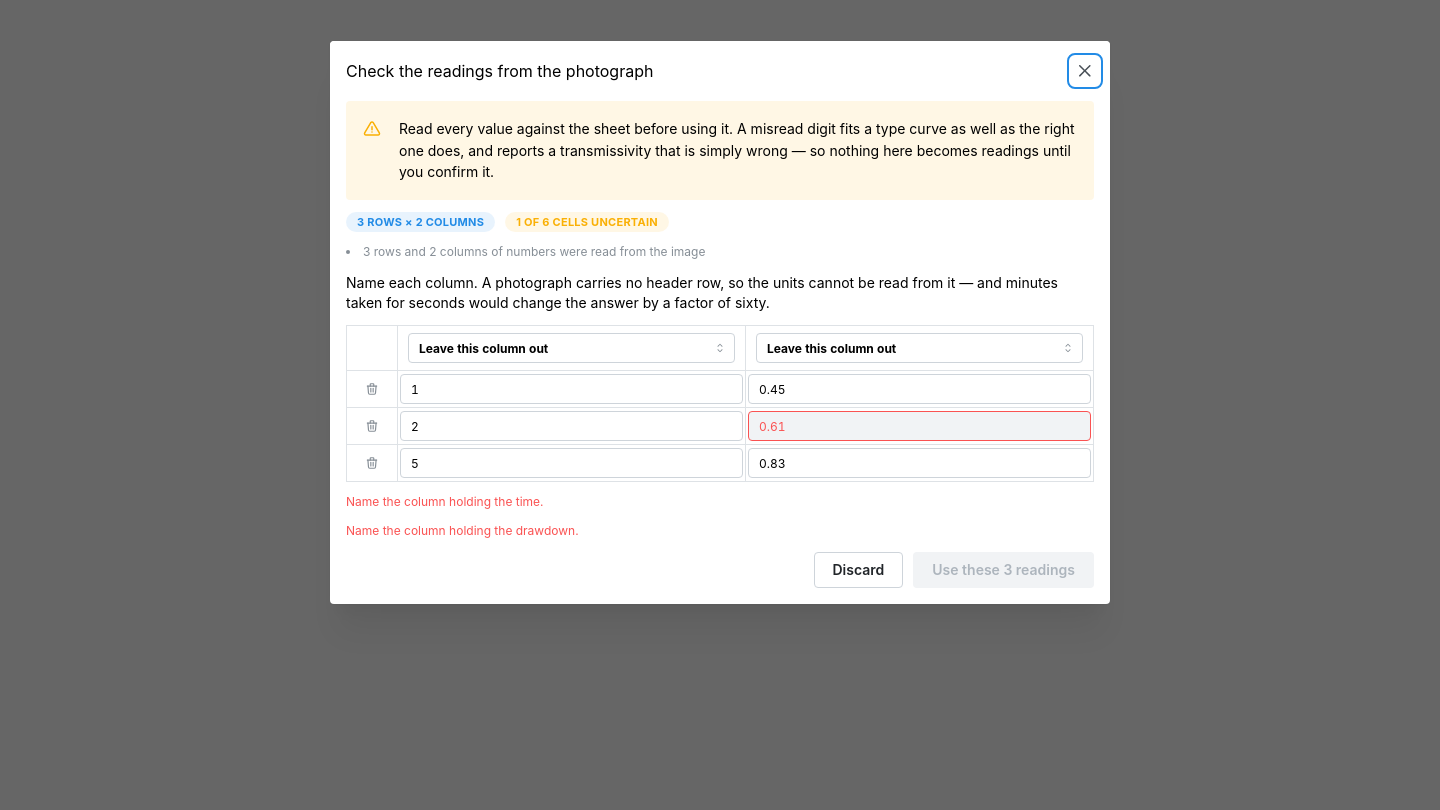
OCRGrid › refuses a row with a hole in a named column
Click the field named "Column 1" at (572, 348), box [408, 333, 735, 363]
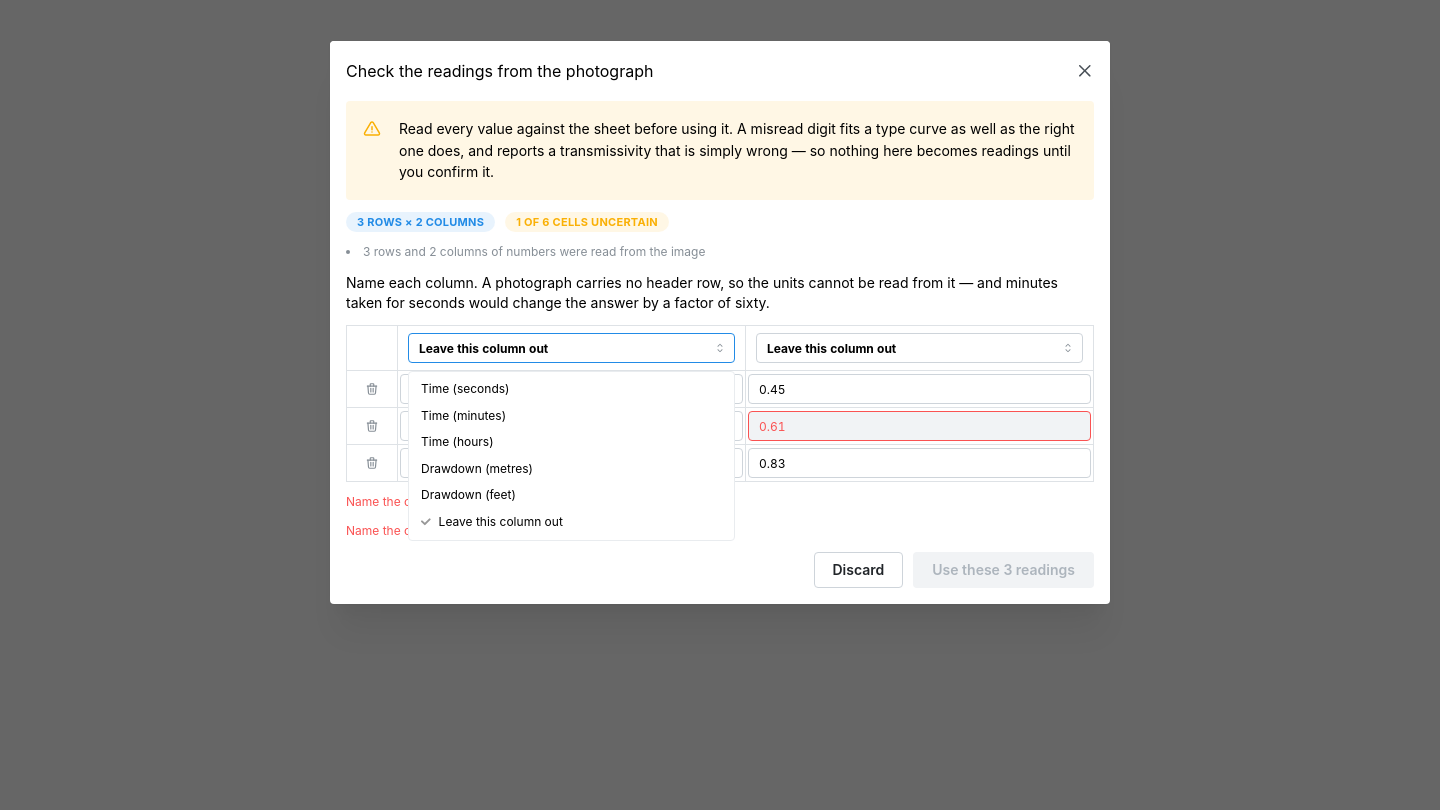
Click the option "Time (minutes)" at (464, 415), box [421, 408, 506, 422]
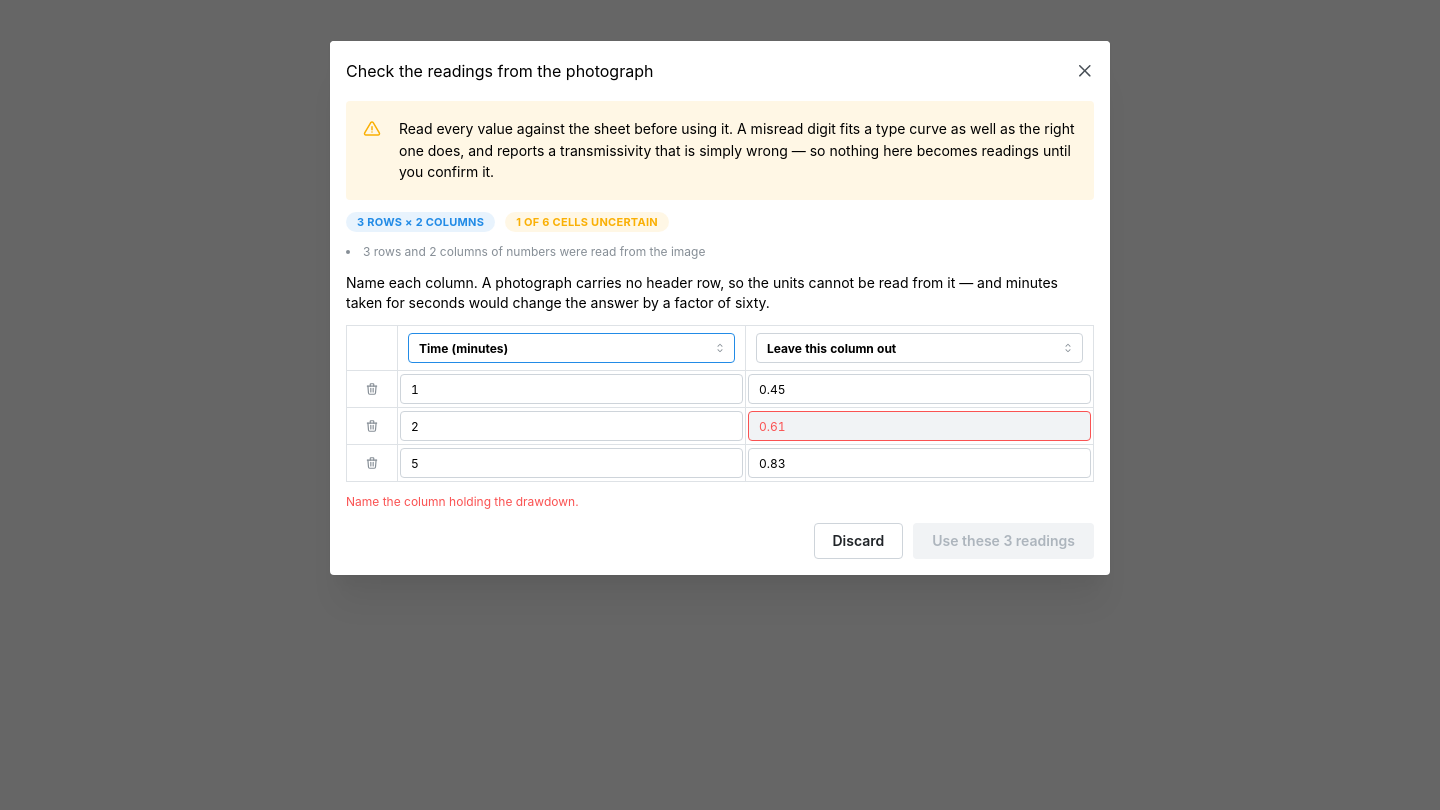
Click the field named "Column 2" at (920, 348), box [756, 333, 1083, 363]
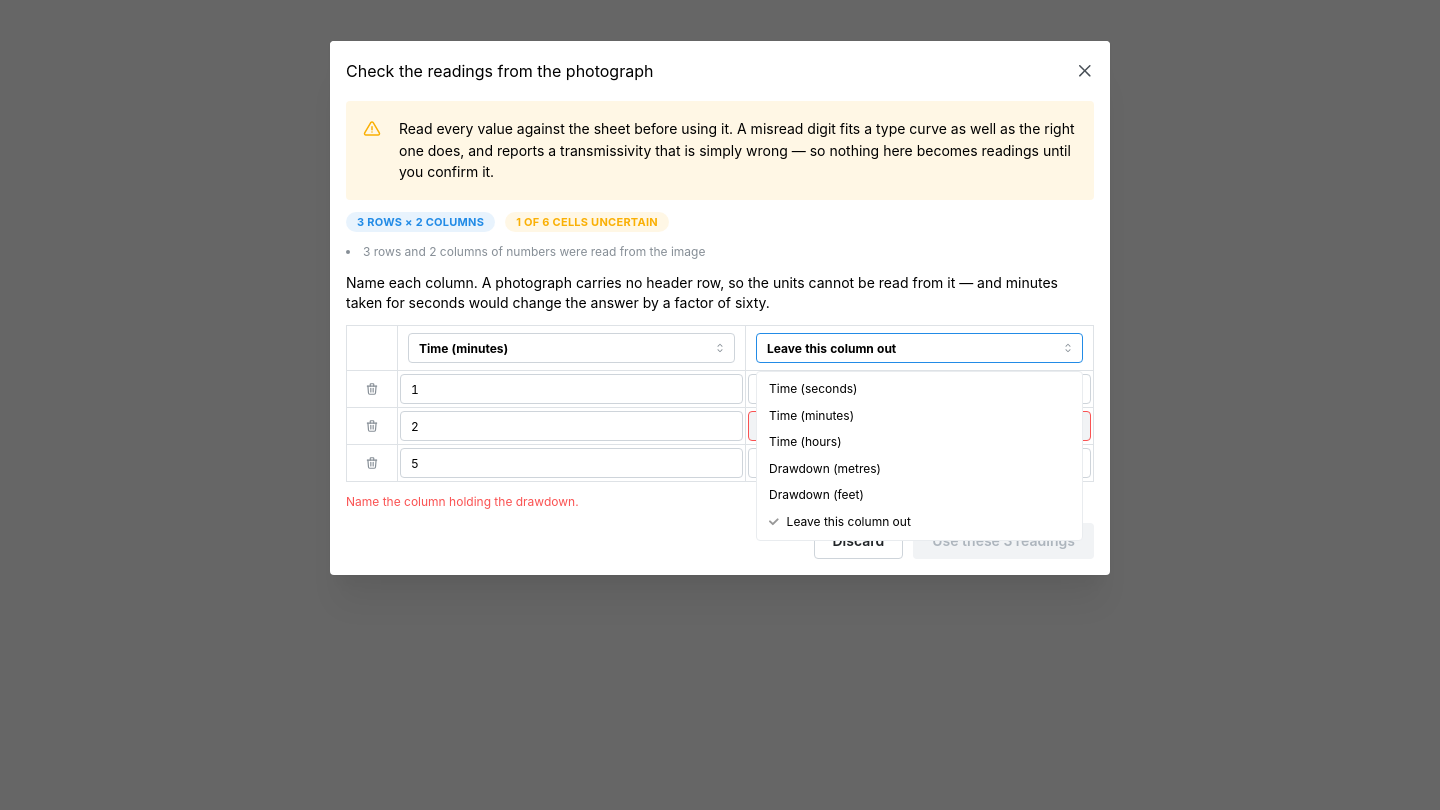
Click the option "Drawdown (metres)" at (825, 468), box [769, 461, 881, 476]
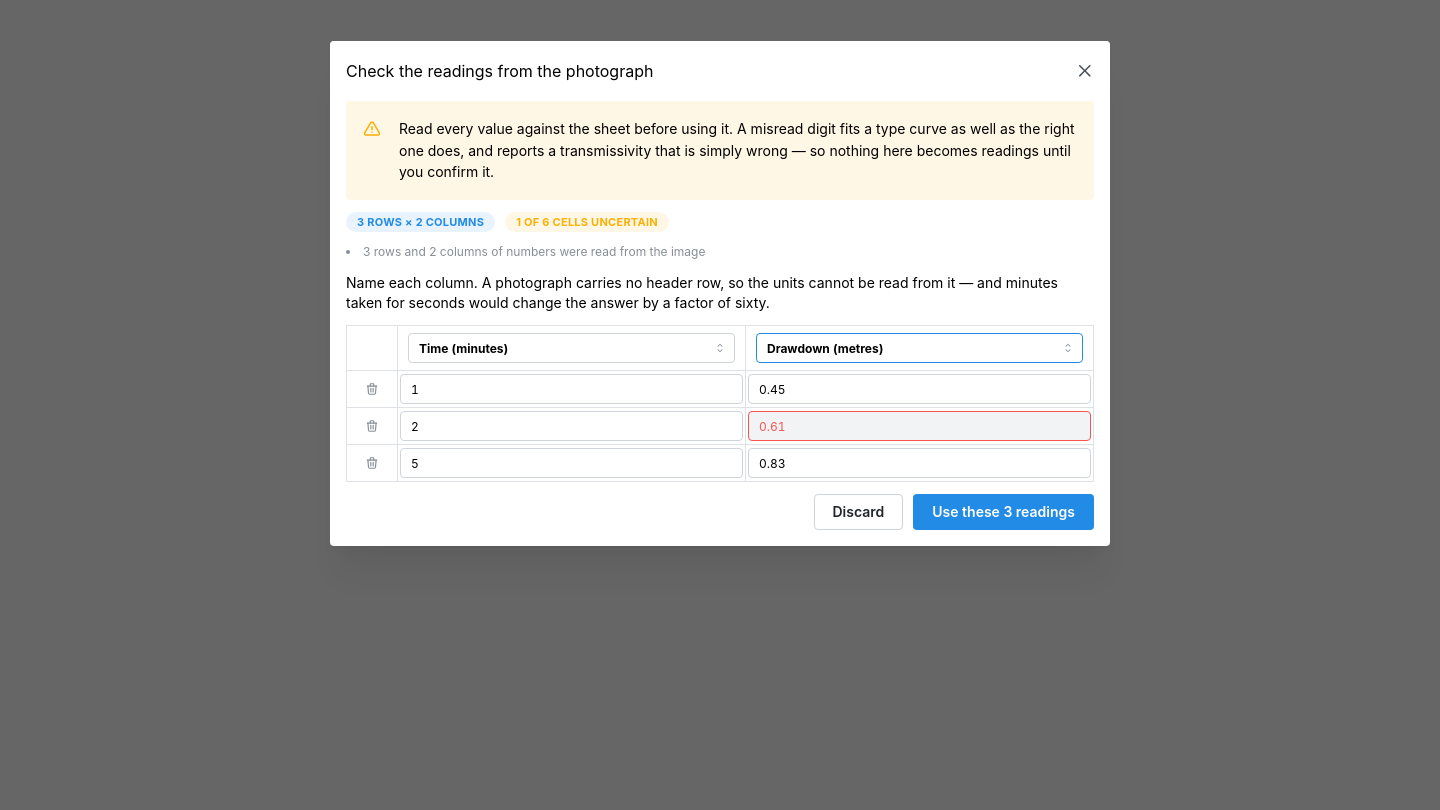
Clear the field named "Row 3 column 1" at (572, 463), box [400, 448, 743, 478]
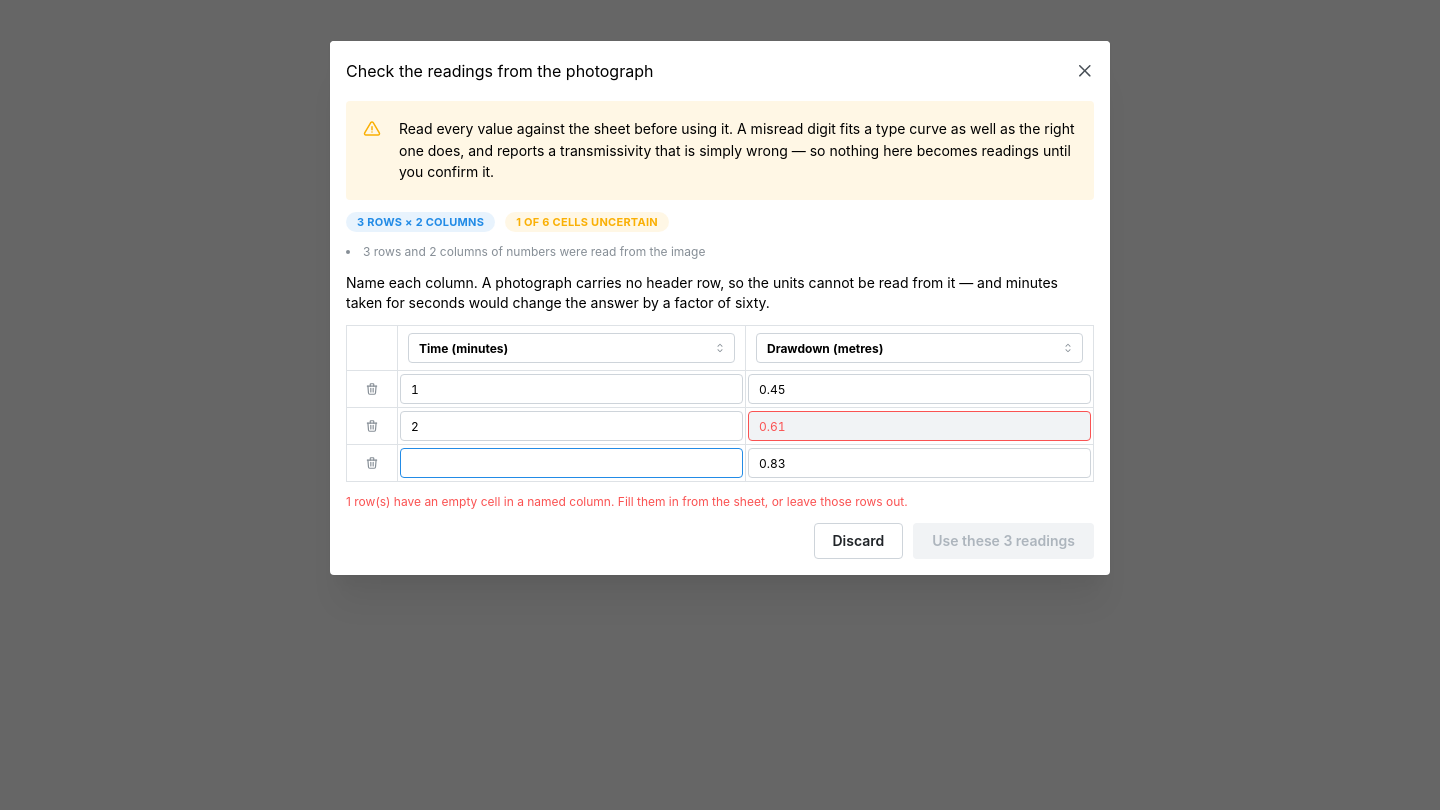
Expected: the text "empty cell in a named column" is shown, [351, 494, 908, 509]
Expected: the button "Use these 3 readings" is disabled, [913, 523, 1094, 559]
